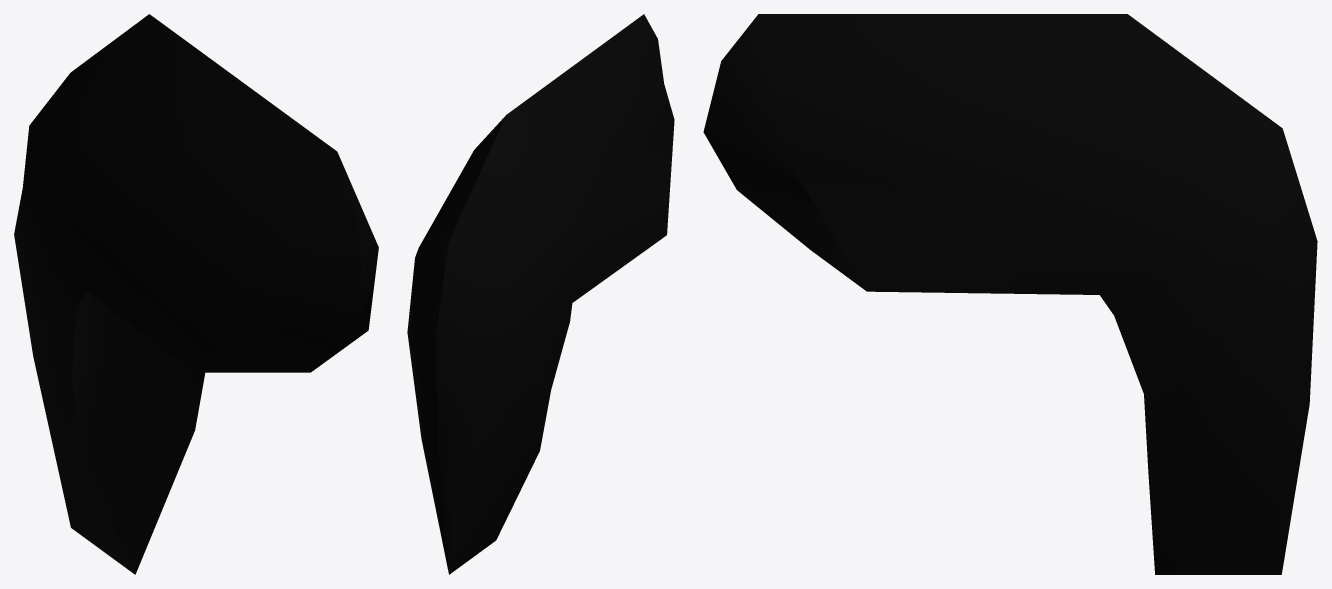
Rendered from Hair_12.fbx.
The picture shows the model from 3 angles, left to right: view 1: azimuth 30°, elevation 25°; view 2: azimuth 150°, elevation 25°; view 3: azimuth 270°, elevation 25°; orthographic projection. The views are drawn at different scales.
Parts seen in each view (by area): view 1: Hair_12; view 2: Hair_12; view 3: Hair_12.
Boxes of the visible parts, x1,y1,x2,y2 form: Hair_12: (14,14,378,574); Hair_12: (407,14,674,574); Hair_12: (703,14,1317,574).
Bounding box in the file's own units: 38.32 × 120 × 119.
